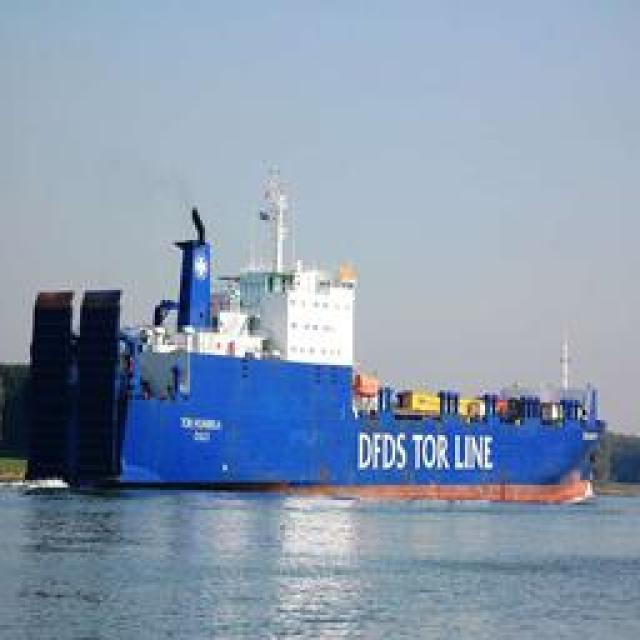ship2: (13, 170, 609, 504)
